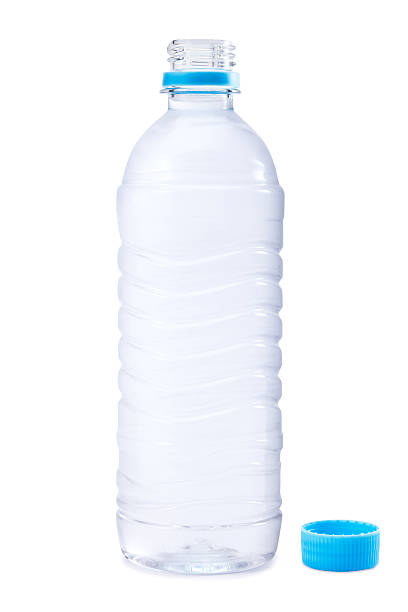HDPE Cap: (301, 520, 381, 573)
HDPE Ring: (161, 70, 235, 87)
PET Bottle: (114, 37, 284, 577)
